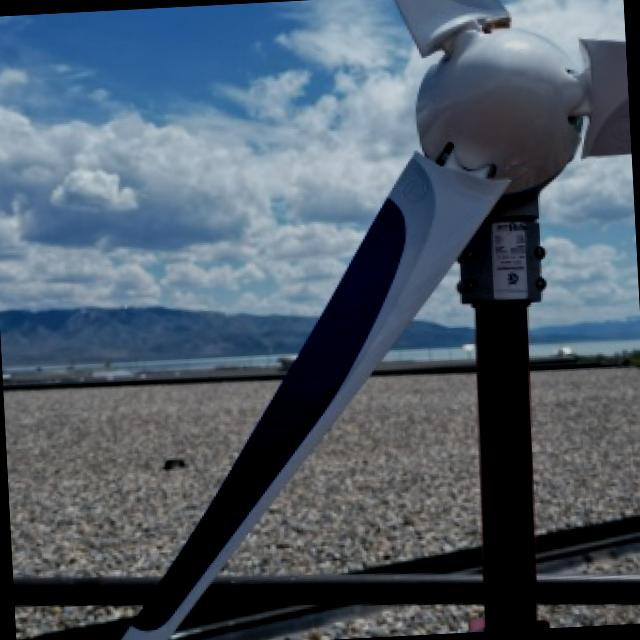healthy: (124, 0, 632, 640), (533, 156, 640, 351)
